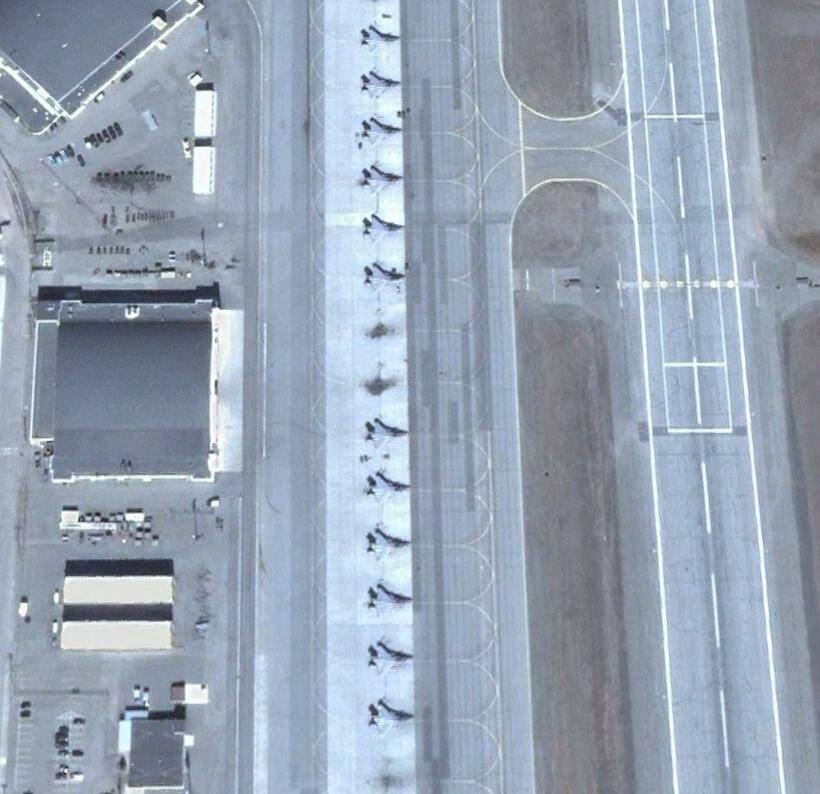A13: (368, 699, 418, 736), (366, 640, 414, 674), (365, 470, 412, 503), (364, 527, 411, 560), (360, 213, 408, 245), (366, 584, 415, 615), (363, 416, 409, 448), (359, 164, 404, 193), (362, 261, 405, 290), (360, 69, 401, 99), (359, 117, 402, 145), (359, 23, 398, 51)
